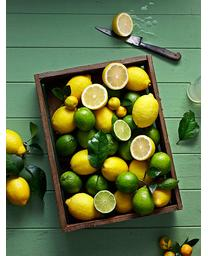lemon: (132, 92, 158, 126), (5, 176, 33, 207), (101, 62, 130, 91), (66, 194, 97, 219), (1, 130, 27, 158), (71, 151, 99, 176), (130, 135, 155, 160), (82, 84, 108, 108), (93, 189, 117, 214), (112, 11, 133, 38), (115, 172, 140, 194), (74, 108, 96, 132), (112, 118, 133, 141), (150, 151, 171, 170)
